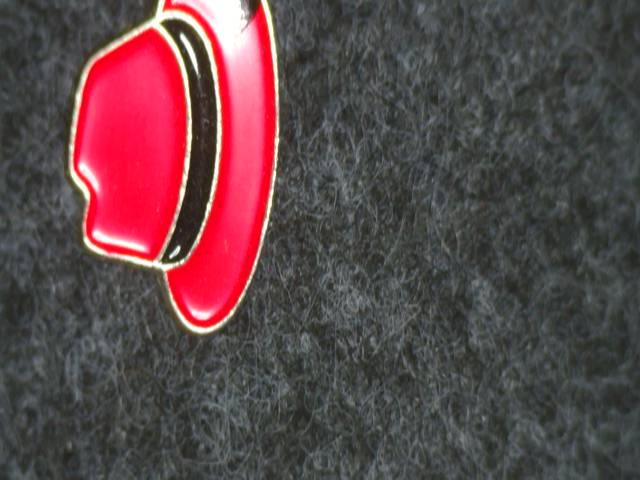Red-Hat: (60, 0, 310, 360)
Scratch: (212, 0, 273, 48)
